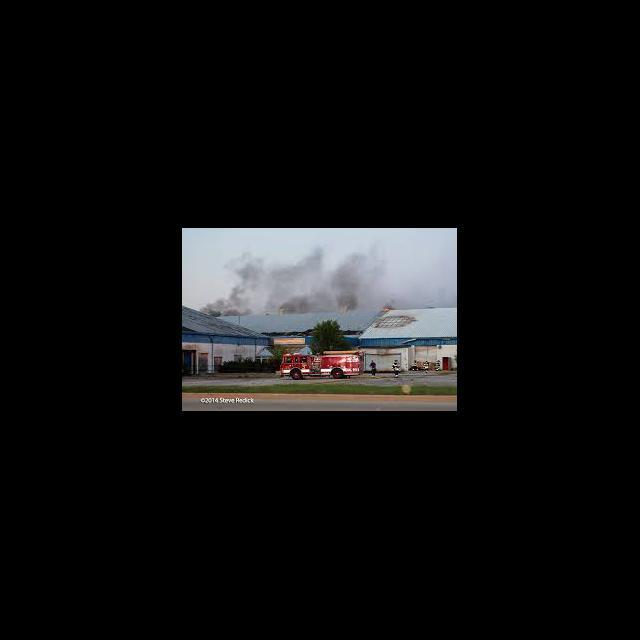Fire: (381, 304, 392, 312)
Smoke: (215, 254, 368, 312)
